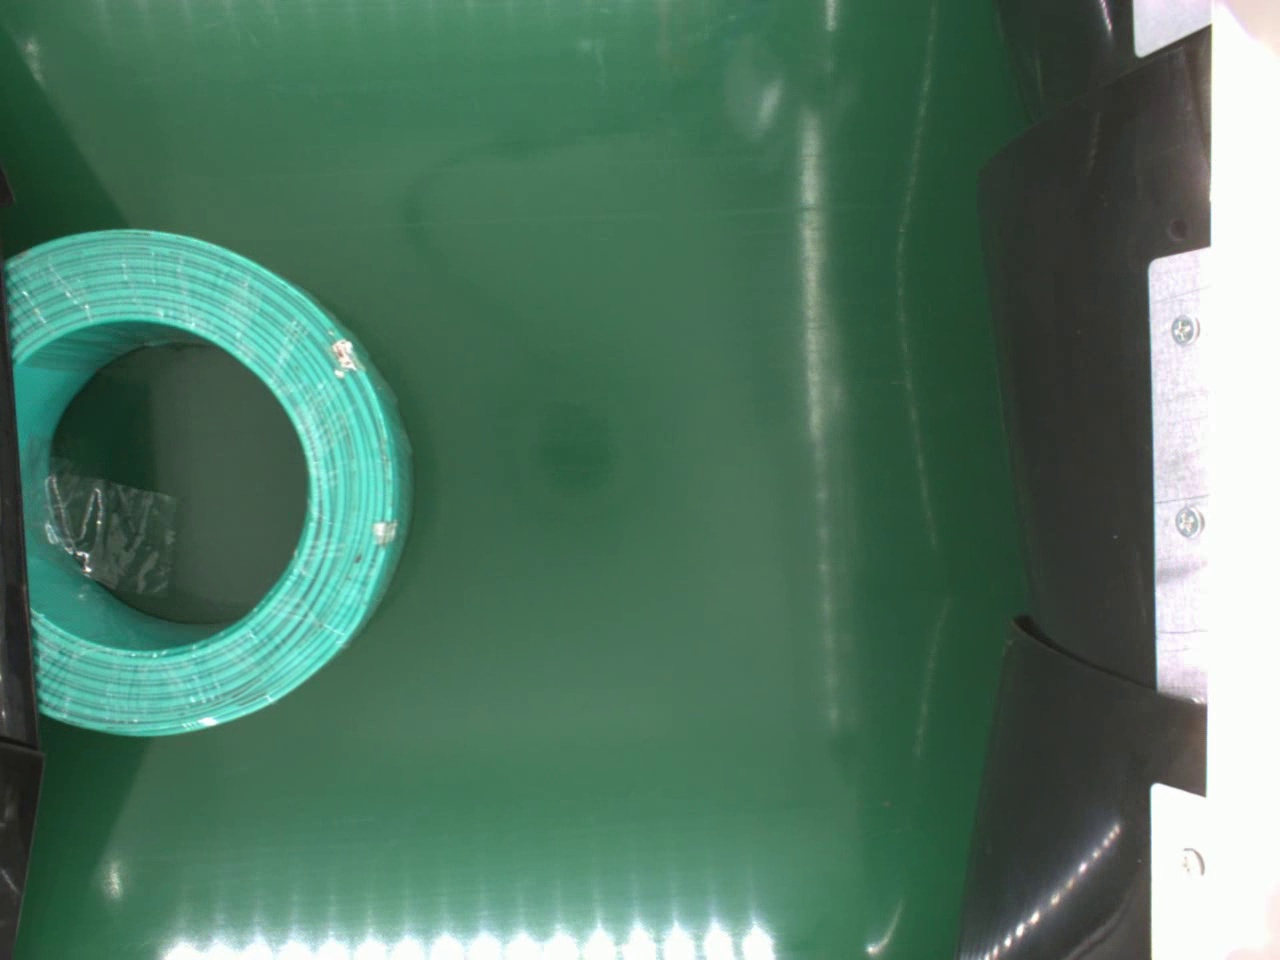green: (2, 231, 418, 740)
